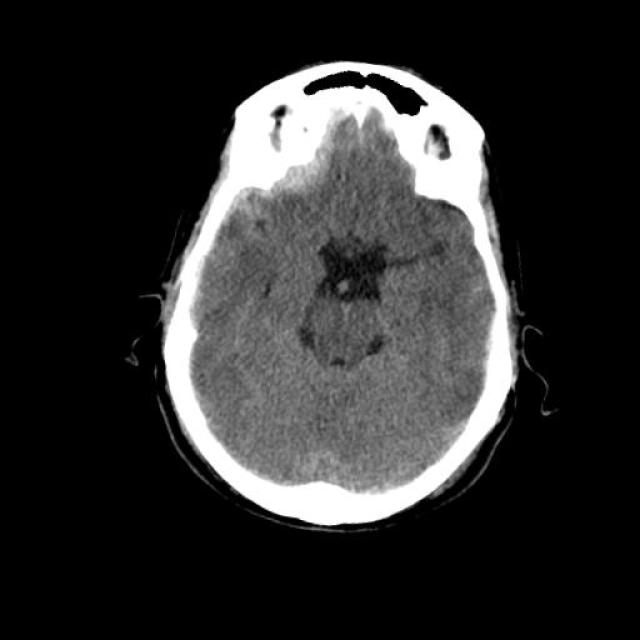Subdural: (210, 79, 384, 253)
